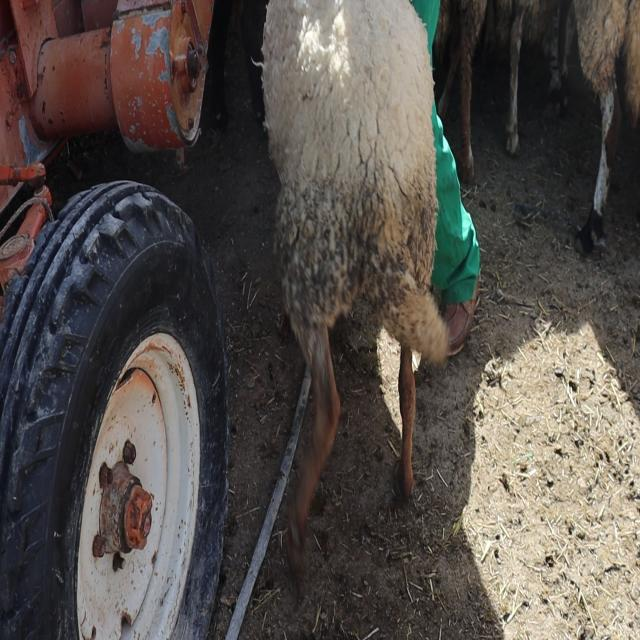Score_5: (262, 0, 450, 578)
